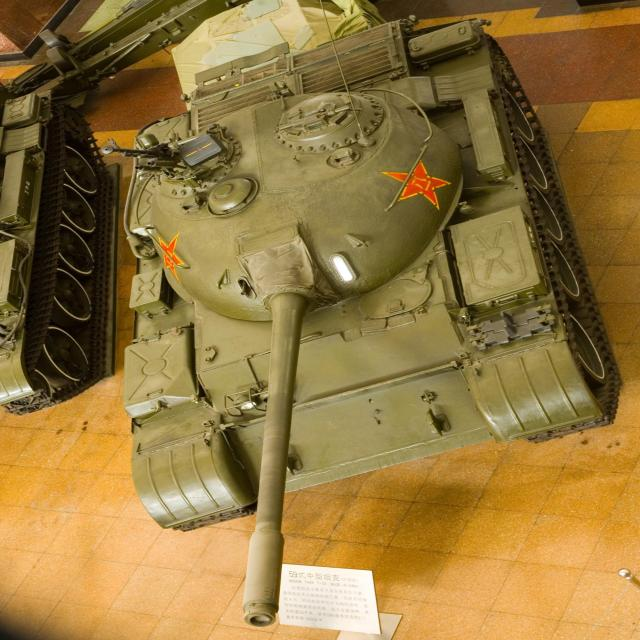Tanks: (97, 50, 629, 502)
